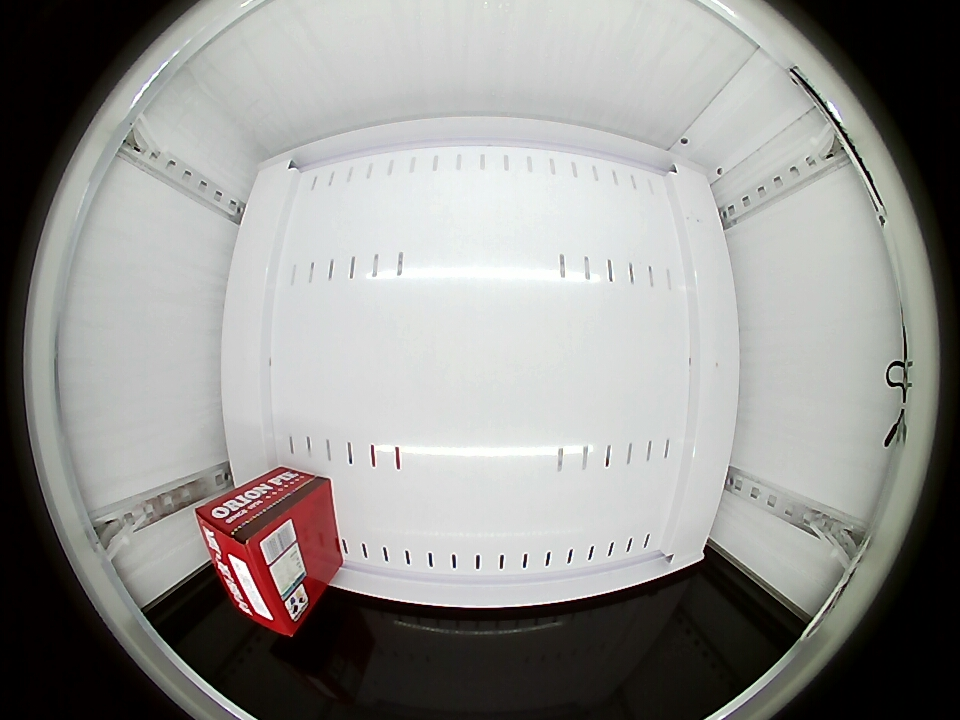haoliyou: (196, 492, 317, 636)
